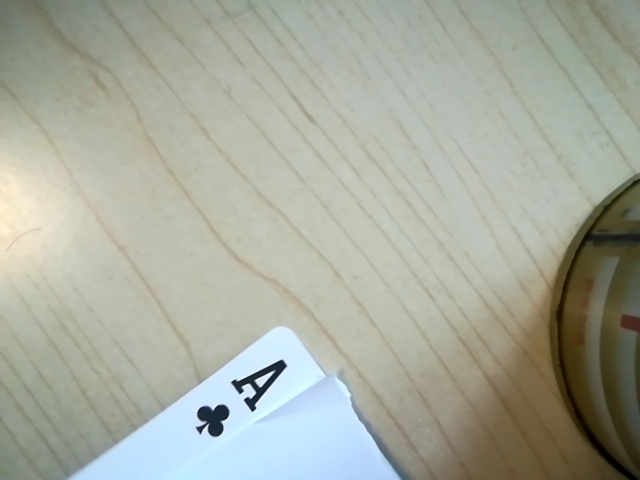mh a: (180, 352, 306, 440)
